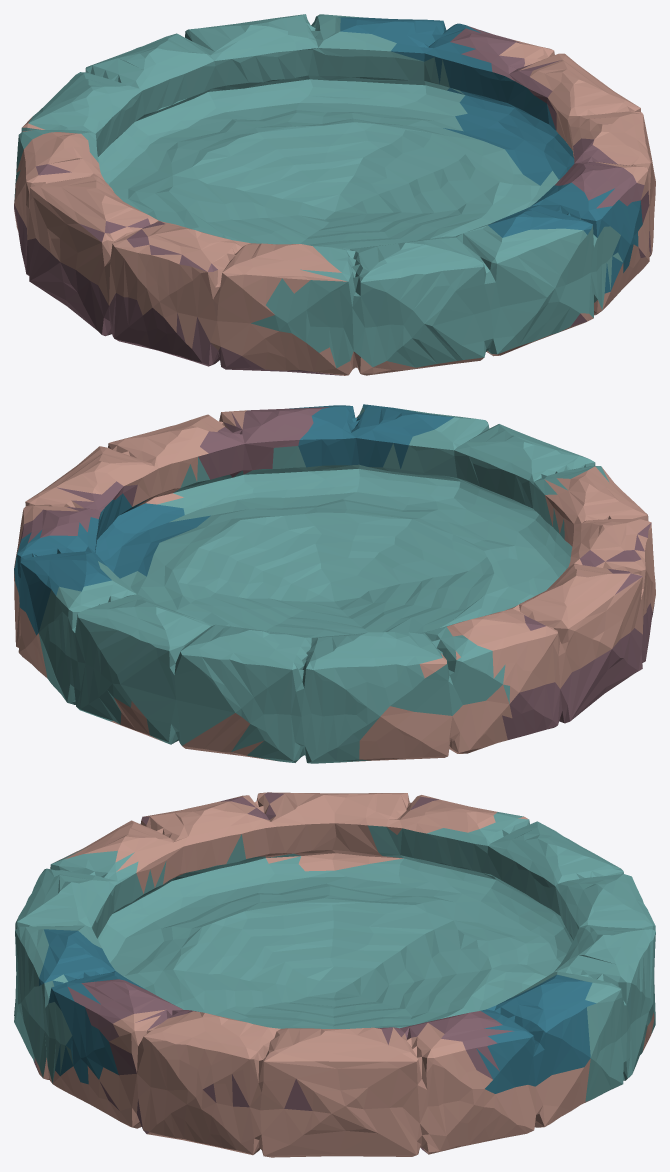
File: pond.glb
The picture shows the model from 3 angles, top to bottom: view 1: azimuth 30°, elevation 25°; view 2: azimuth 150°, elevation 25°; view 3: azimuth 270°, elevation 25°; orthographic projection.
Visible parts, largest first — view 1: geometry_0; view 2: geometry_0; view 3: geometry_0.
Boxes of the visible parts, x1,y1,x2,y2 form: geometry_0: (14,14,655,375); geometry_0: (14,404,655,763); geometry_0: (14,792,655,1157).
Size of the model in its own units: 1.99 by 0.4282 by 1.97.
